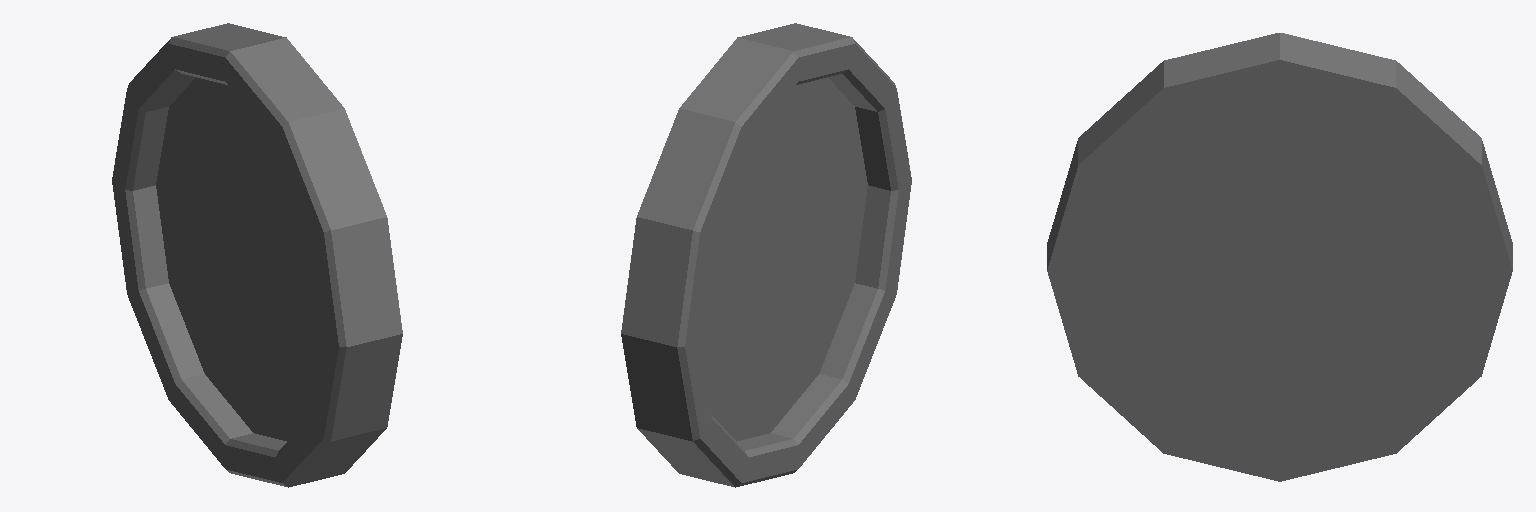
The model's file is clock.obj.
3 views of the same model, side by side, from view 1: azimuth 30°, elevation 25°; view 2: azimuth 150°, elevation 25°; view 3: azimuth 270°, elevation 25° (orthographic).
Parts seen in each view (by area): view 1: clock timeMachine Hub; view 2: clock timeMachine Hub; view 3: clock timeMachine Hub.
Boxes of the visible parts, <box> form: clock timeMachine Hub: <box>112,23,402,487</box>; clock timeMachine Hub: <box>621,23,911,487</box>; clock timeMachine Hub: <box>1047,33,1512,481</box>.
Bounding box in the file's own units: 0.5136 × 3.39 × 3.39.